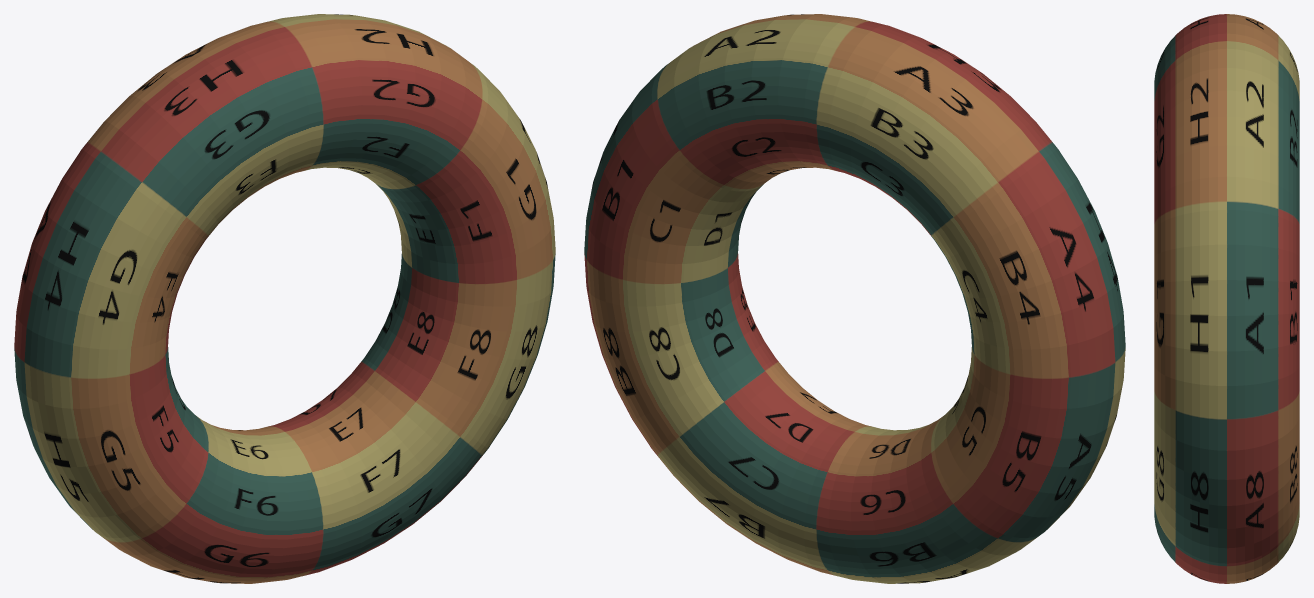
The model's file is texture_torus_R17_r20.glb.
The picture shows the model from 3 angles, left to right: view 1: azimuth 30°, elevation 25°; view 2: azimuth 150°, elevation 25°; view 3: azimuth 270°, elevation 25°; orthographic projection. The views are drawn at different scales.
Visible parts, largest first — view 1: world; view 2: world; view 3: world.
Part boxes in pixels (bbox=[...]): world: bbox=[14, 14, 555, 583]; world: bbox=[584, 14, 1125, 583]; world: bbox=[1154, 14, 1299, 583].
Size of the model in its own units: 28.67 by 28.61 by 7.32.
1 material, 1 textured.
